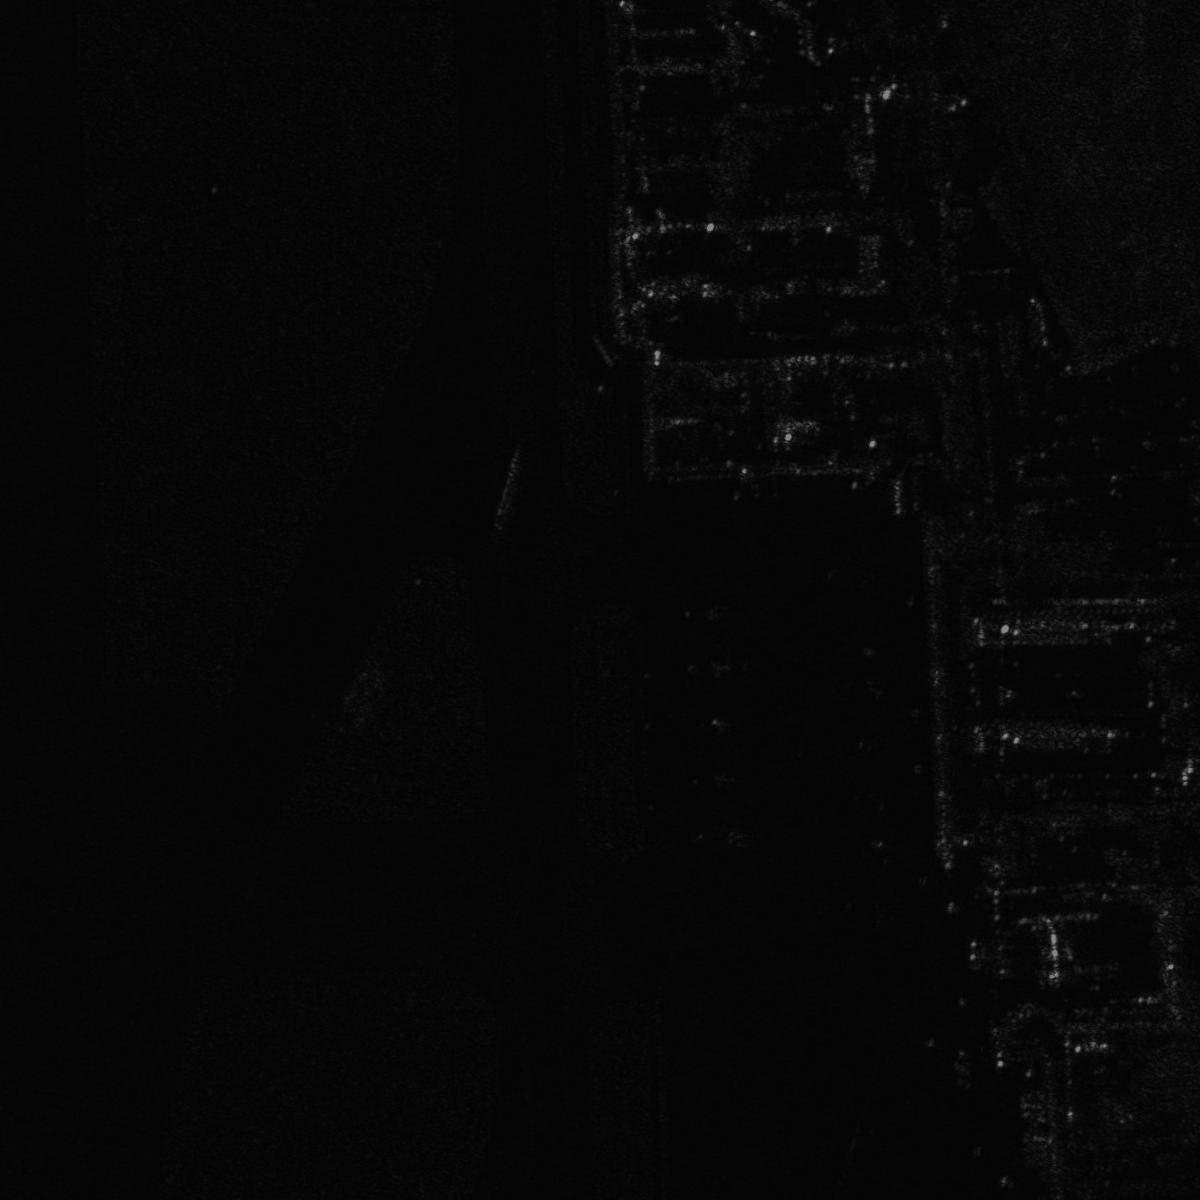ARJ21: (684, 649, 740, 686), (697, 704, 748, 741)
other: (685, 759, 745, 799), (691, 814, 754, 852), (682, 592, 736, 629)
